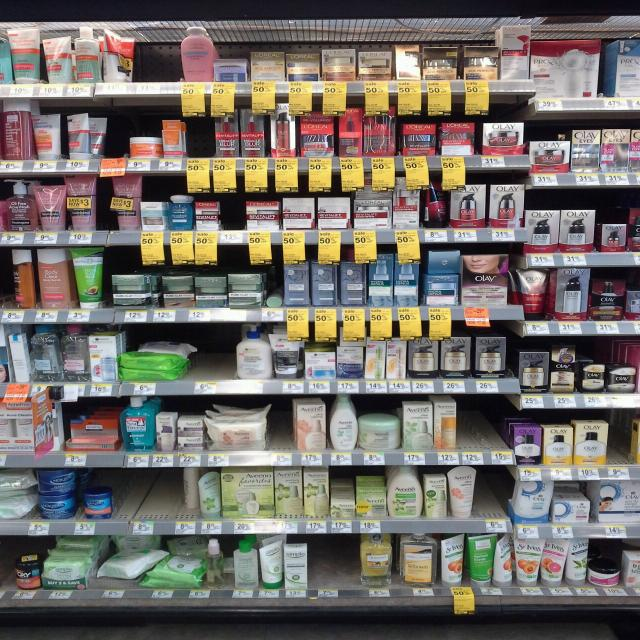empty: (454, 392, 503, 455), (125, 465, 179, 519), (196, 315, 236, 382), (309, 538, 360, 590), (471, 471, 514, 529), (134, 32, 179, 86), (218, 180, 246, 246), (604, 415, 631, 470), (185, 112, 212, 162), (94, 174, 115, 232)
